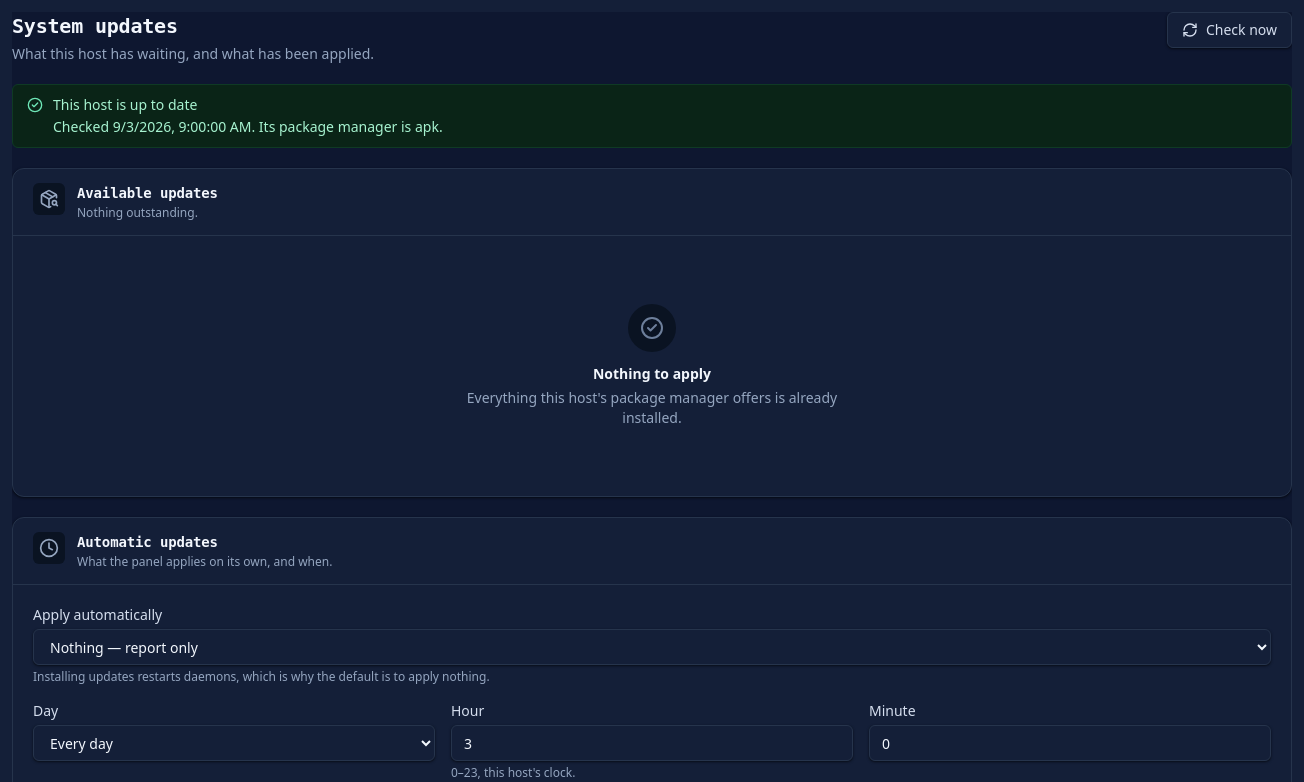
UpdatesPage › warns that a security-only policy would do nothing on this host
The width and height of the screenshot is (1304, 782).
Select "Security fixes only" in the dropdown labelled "Apply automatically" at x=652, y=647, box [33,629,1271,665]
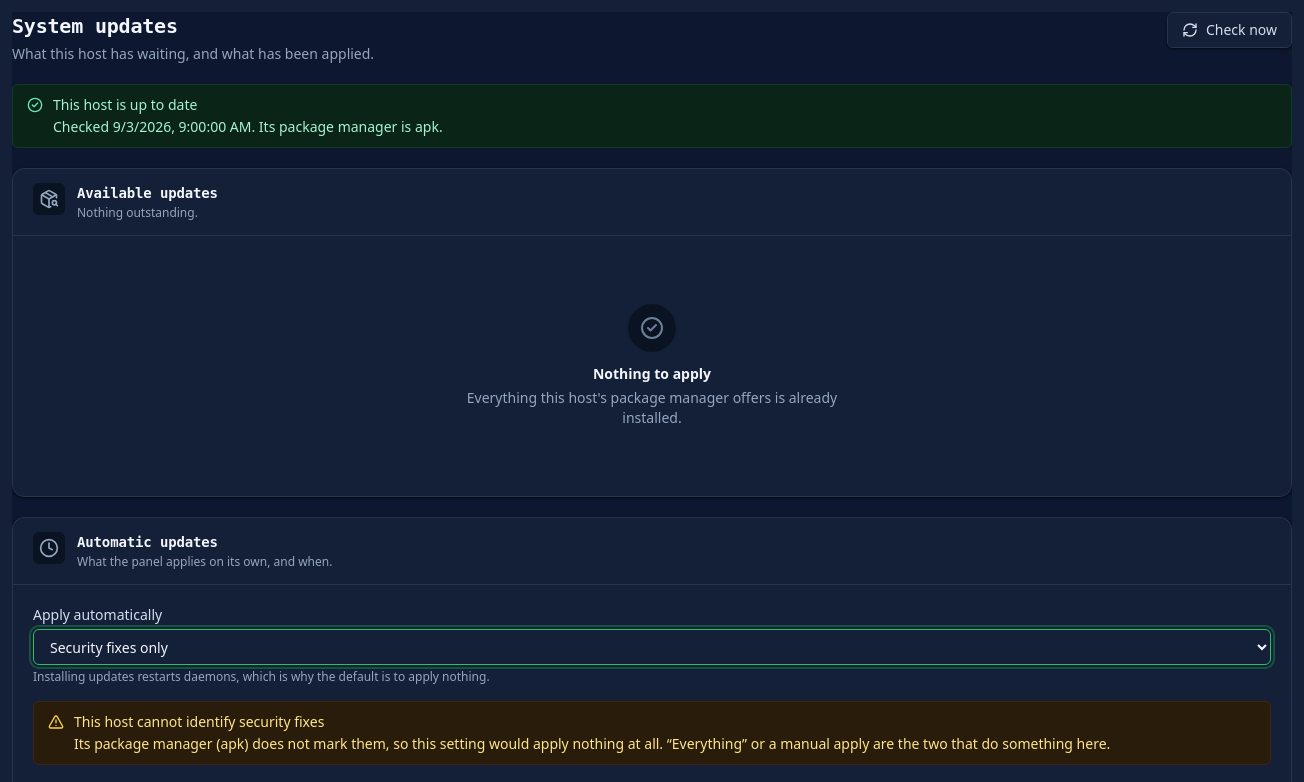
Now the text "This host cannot identify security fixes" is shown, box [74,712,324,731]
